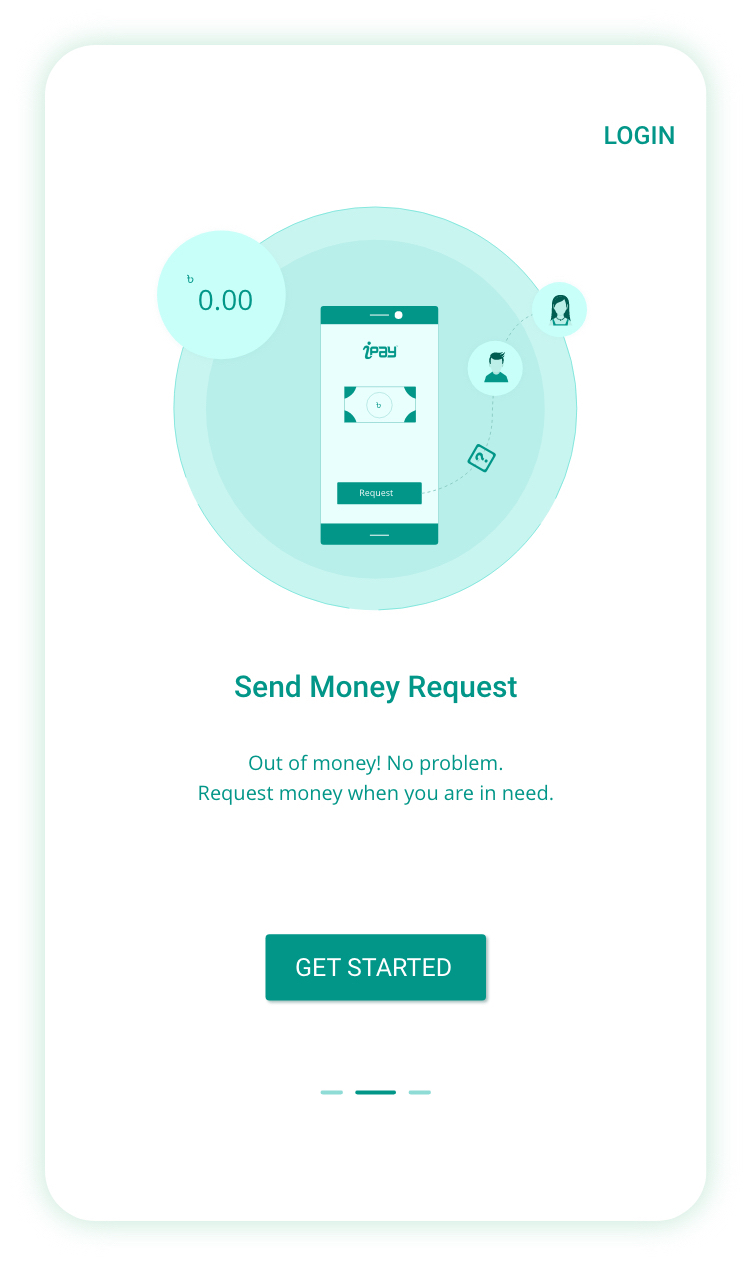Card: (43, 42, 711, 1226)
Image: (156, 206, 589, 612)
PageIndicator: (321, 1089, 432, 1096)
Text: (199, 754, 554, 807), (235, 674, 518, 705), (605, 127, 675, 146)
TextButton: (266, 934, 487, 1001)
